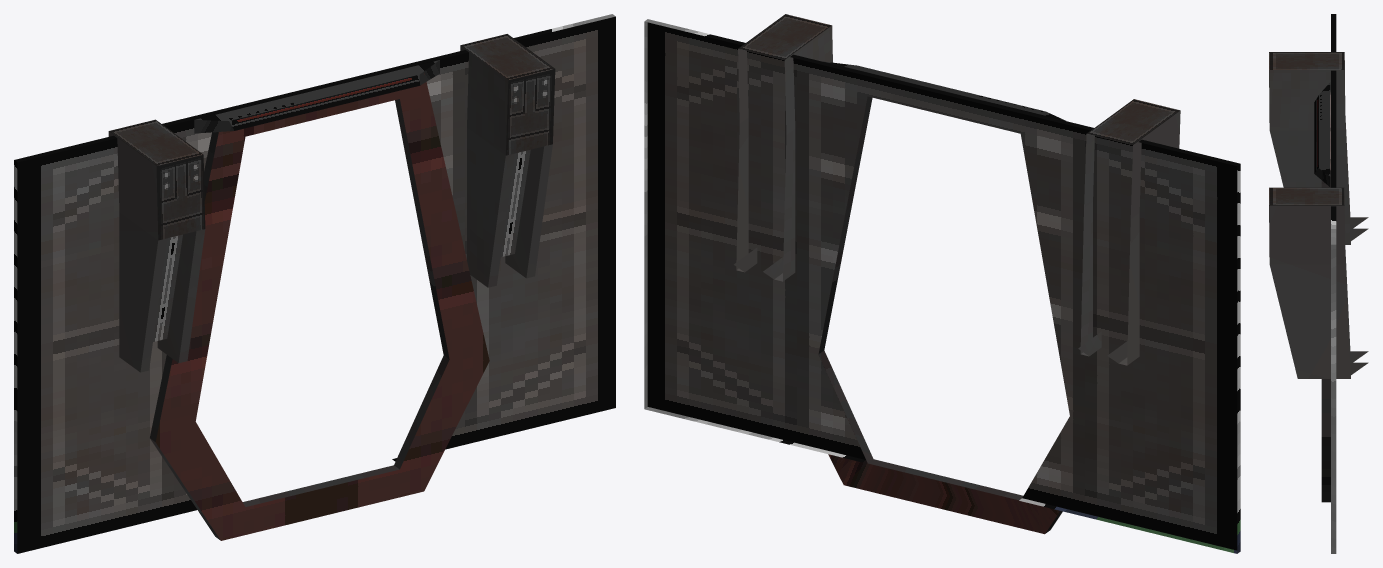
Rendered from doorway01.gltf.
3 views of the same model, side by side, from view 1: azimuth 30°, elevation 25°; view 2: azimuth 150°, elevation 25°; view 3: azimuth 270°, elevation 25° (orthographic). The views are drawn at different scales.
Visible parts, largest first — view 1: Cube, Cylinder, Cube.002, Cube.001; view 2: Cube, Cube.002, Cylinder, Cube.001; view 3: Cube.002, Cube, Cube.001, Cylinder.
Part boxes in pixels (x1,y1,x2,y2): Cube: [14, 14, 615, 553]; Cylinder: [150, 73, 489, 540]; Cube.002: [108, 34, 555, 372]; Cube.001: [194, 60, 439, 133]; Cube: [644, 19, 1240, 553]; Cube.002: [734, 14, 1180, 365]; Cylinder: [818, 96, 1062, 534]; Cube.001: [823, 61, 1065, 120]; Cube.002: [1269, 52, 1368, 378]; Cube: [1331, 14, 1336, 553]; Cube.001: [1314, 82, 1330, 186]; Cylinder: [1321, 92, 1330, 502].
Bounding box in the file's own units: 4 × 2.7 × 0.7326.
4 materials, 4 textured.
